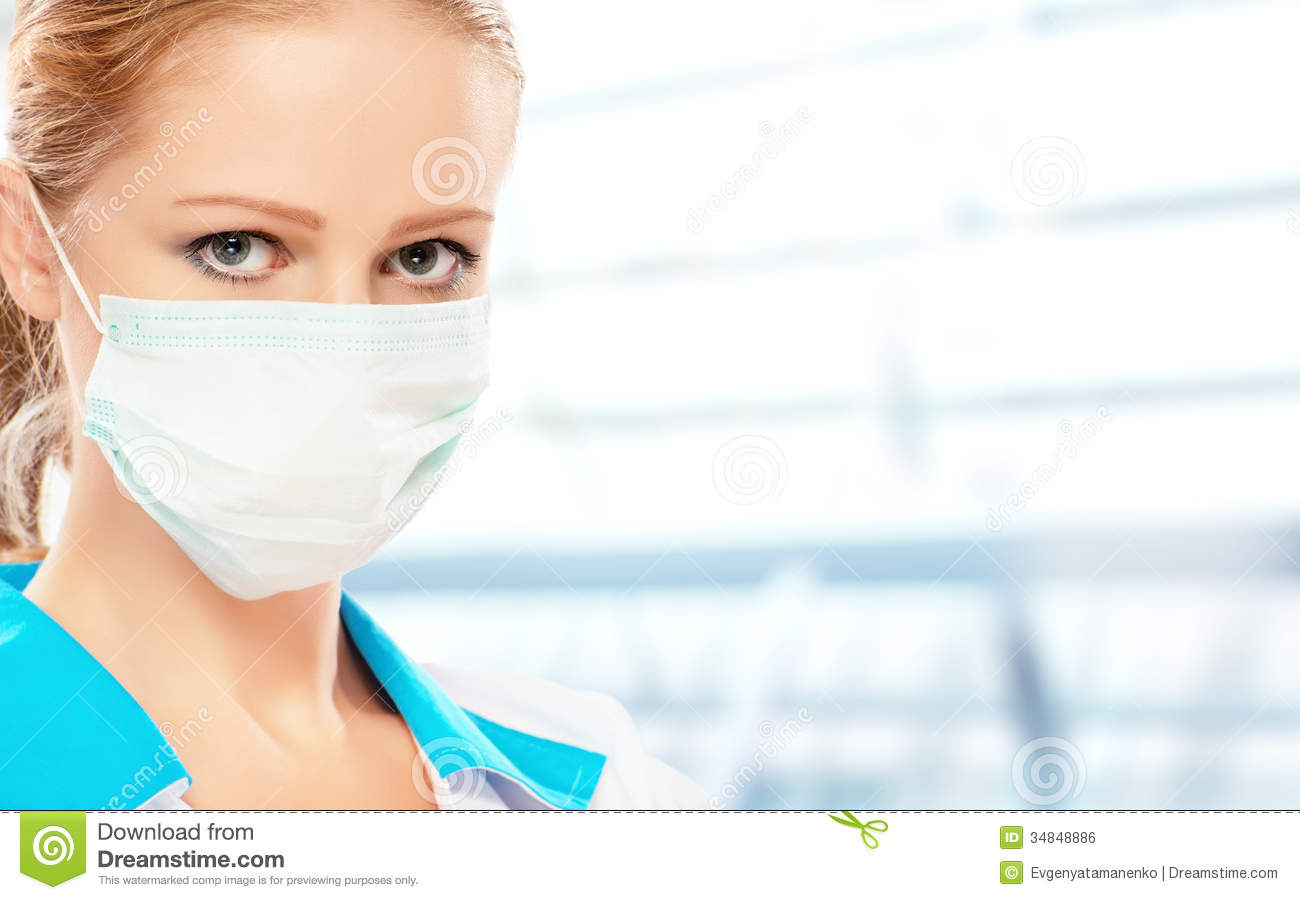mask: (81, 288, 513, 585)
